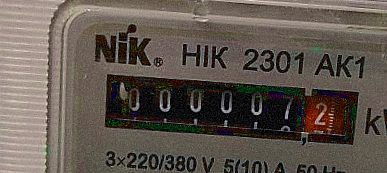0: (185, 86, 205, 115), (155, 85, 174, 115), (124, 85, 143, 113), (247, 89, 265, 118), (217, 87, 234, 115)
2: (311, 99, 330, 129)
7: (276, 92, 295, 123)
screen: (93, 60, 371, 156)
